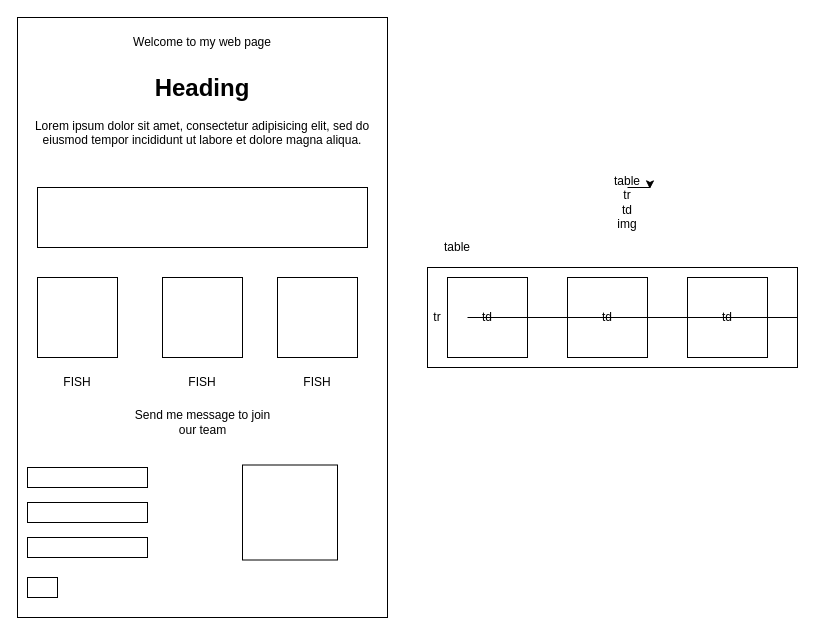
This 816x635 diagram has some shape labels left out. The box of each missing label's shape, as (x1, y1, x2, y2) in pixels:
img: (242, 464, 338, 560)
text from your own topic: (36, 186, 368, 248)
